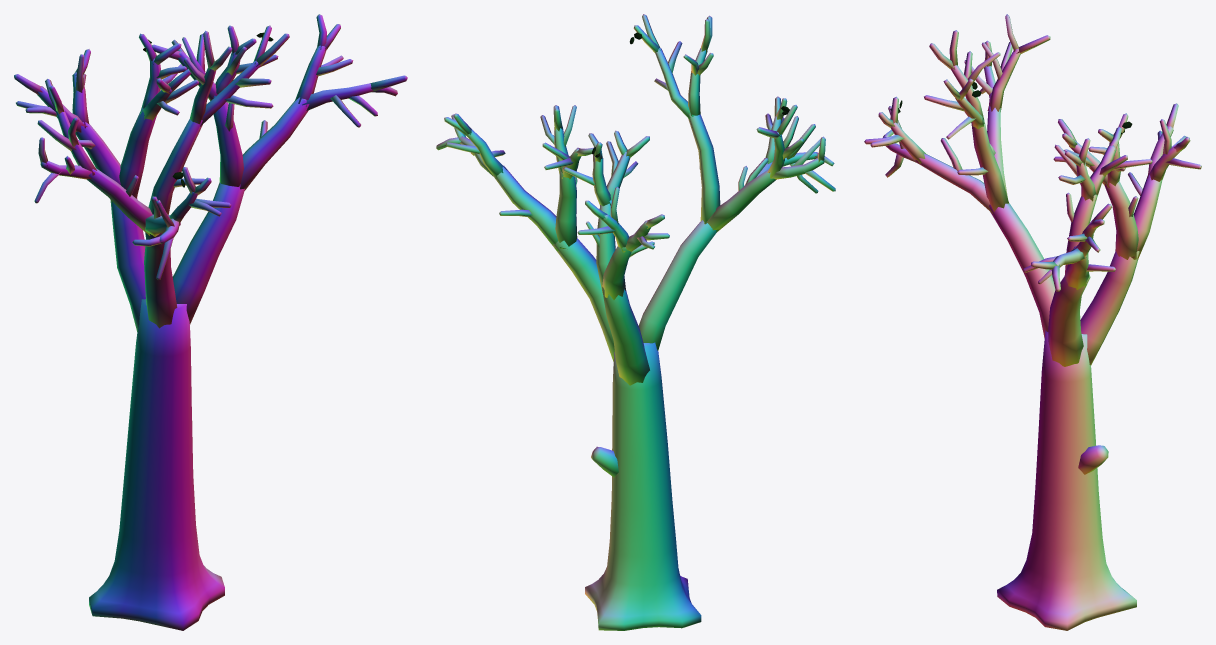
File: SM_Foliage_March_DeadOak_A.fbx
The picture shows the model from 3 angles, left to right: view 1: azimuth 30°, elevation 25°; view 2: azimuth 150°, elevation 25°; view 3: azimuth 270°, elevation 25°; orthographic projection. The views are drawn at different scales.
Visible parts, largest first — view 1: SM_Foliage_March_DeadOak_A; view 2: SM_Foliage_March_DeadOak_A; view 3: SM_Foliage_March_DeadOak_A.
Boxes of the visible parts, x1=… form: SM_Foliage_March_DeadOak_A: x1=14, y1=14, x2=407, y2=630; SM_Foliage_March_DeadOak_A: x1=436, y1=14, x2=835, y2=630; SM_Foliage_March_DeadOak_A: x1=864, y1=14, x2=1201, y2=630.
Bounding box in the file's own units: 2.92 × 4.25 × 2.3.
